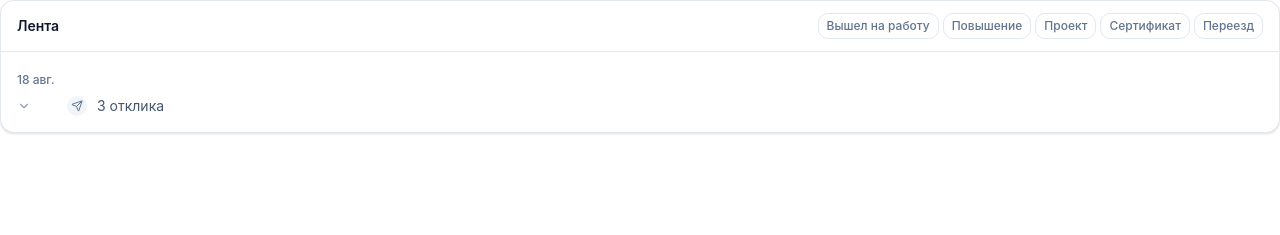
Test: TimelineFeed (Этап 3-5, plans/career_redesign_2026_08_26.md) › 3+ однотипных события за день сворачиваются в одну строку с раскрытием по клику
Check: the text "3 отклика" is shown, box [97,97,164,114]
Check: the text "Отклик · vac-1" is not shown
What coordinates should you click on to do the following:
click the button "3 отклика"
I would click on:
 (137, 106)
Its box is [17,96,1263,116].
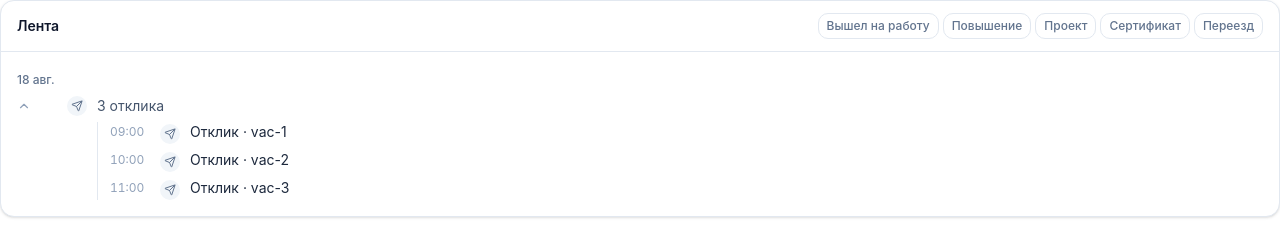
Check: the text "Отклик · vac-1" is shown, box [190,123,287,140]
Check: the text "Отклик · vac-2" is shown, box [190,151,289,168]
Check: the text "Отклик · vac-3" is shown, box [190,179,290,196]
